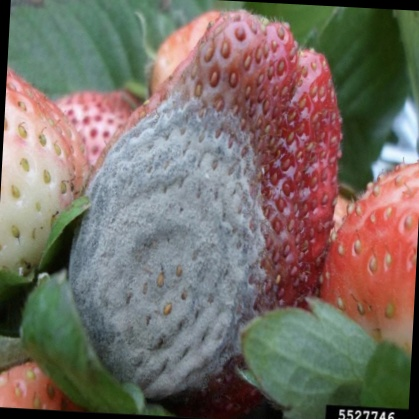Gray_Mold: (71, 9, 341, 413)
